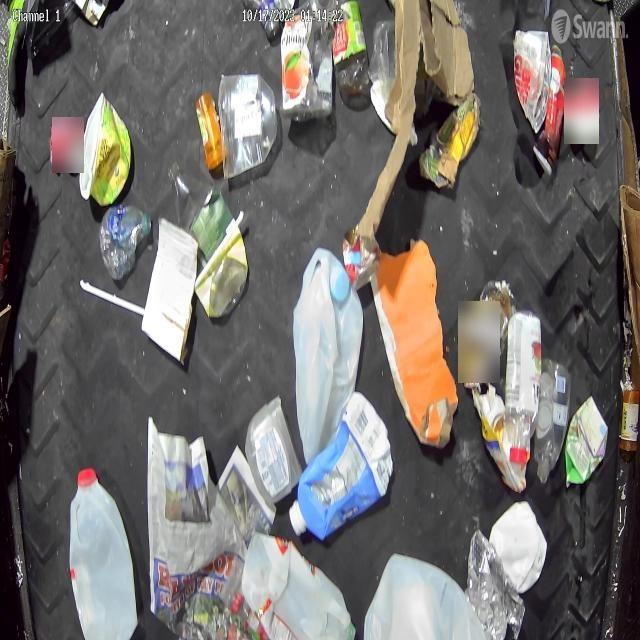milk_jug: (291, 246, 363, 468), (69, 468, 138, 640), (244, 536, 356, 640), (364, 551, 490, 640)
non_white_jug: (288, 394, 394, 542)
plastic_bottle: (534, 358, 572, 483), (100, 204, 154, 282)
